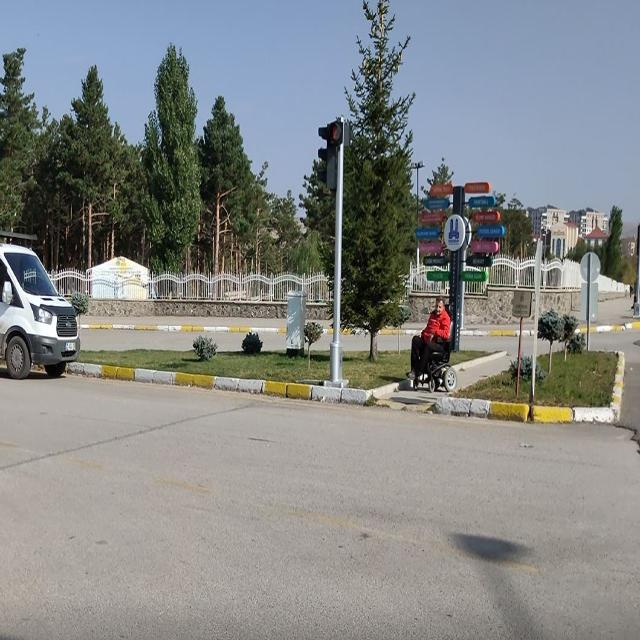wheelchairs: (414, 331, 459, 391)
